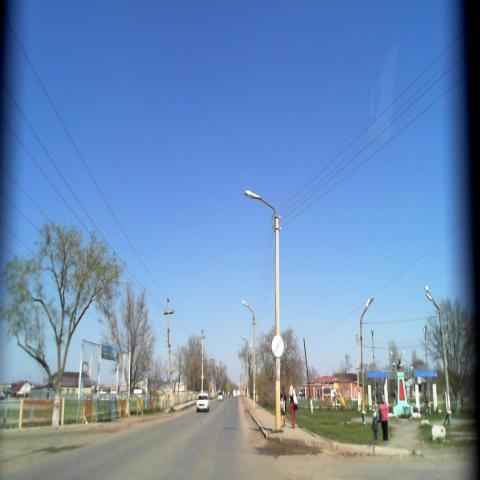3_31: (272, 334, 286, 360)
